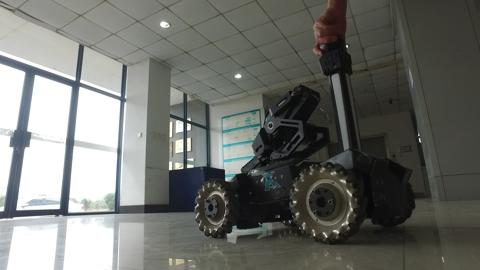chariot: (193, 33, 420, 246)
